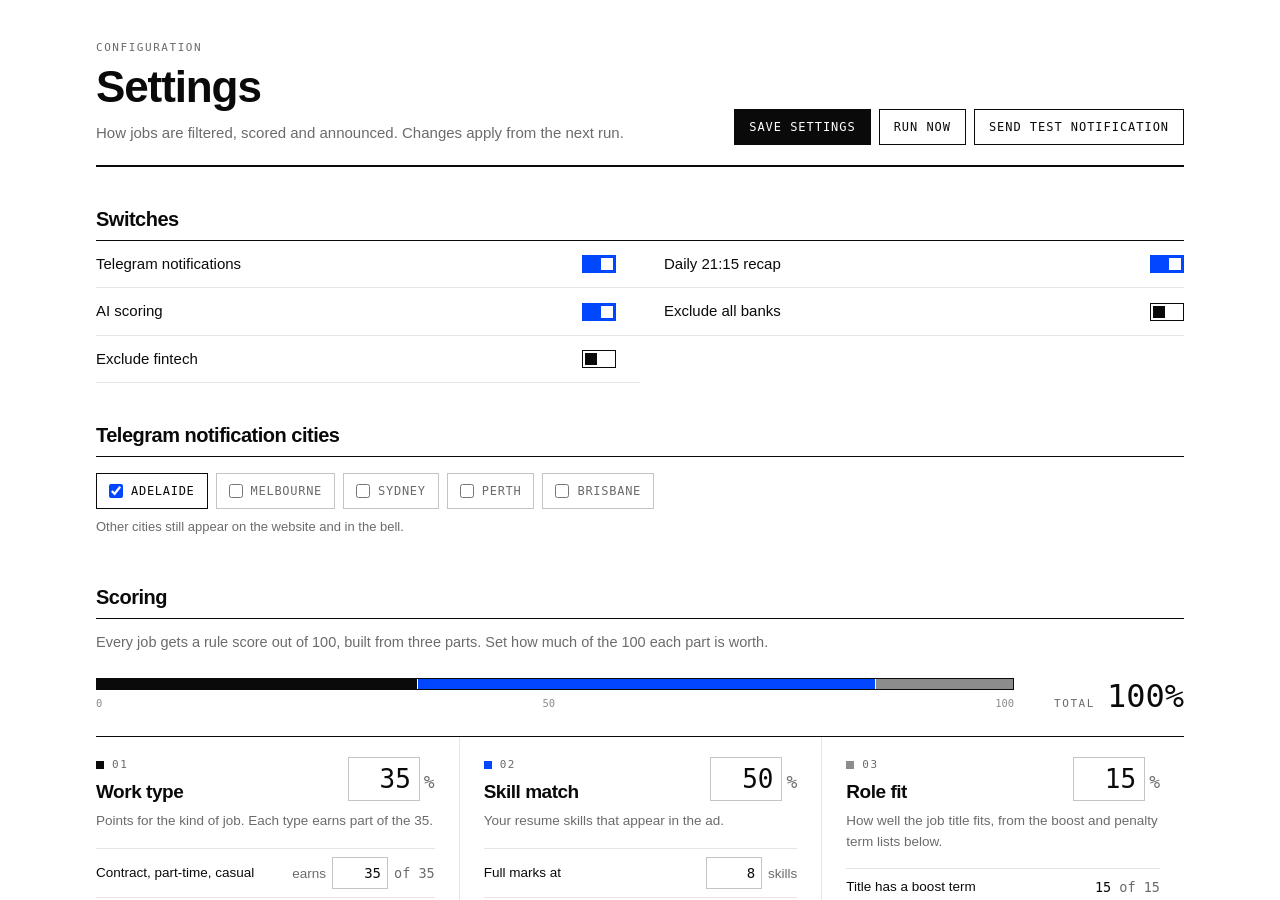
SettingsPage list textareas › toggling a notify city saves notify_cities with the full settings PUT
Later steps or results of the test are not shown.
Expected: the checkbox labelled "Adelaide" is checked, x1=109 y1=484 x2=123 y2=498
Click the checkbox labelled "Melbourne".
click(236, 491)  # box x1=229 y1=484 x2=243 y2=498
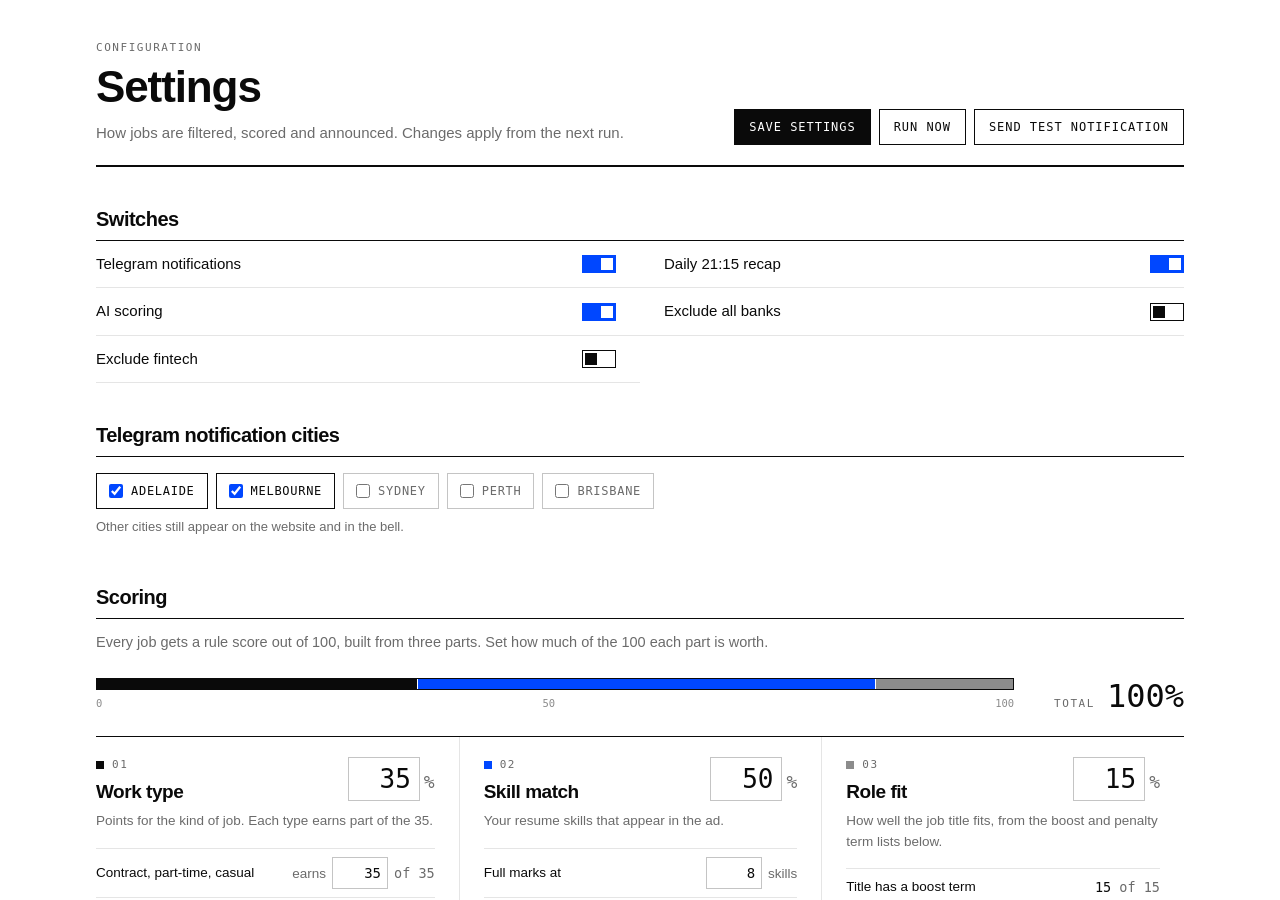
Expected: the text "Other cities still appear on the website and in the bell." is shown, x1=96 y1=519 x2=404 y2=534
Now the checkbox labelled "Melbourne" is checked, box x1=229 y1=484 x2=243 y2=498
